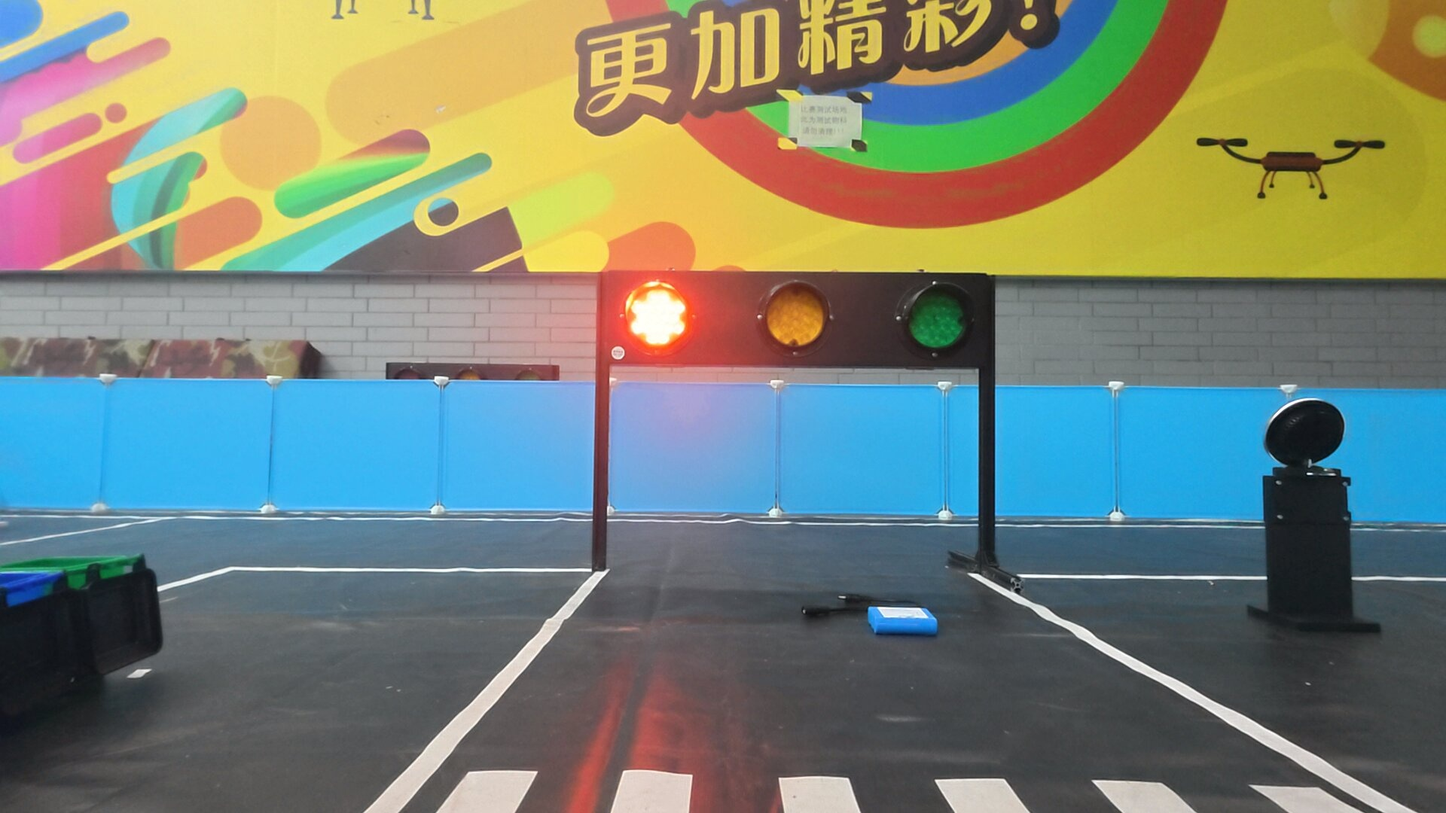stop: (619, 276, 694, 354)
